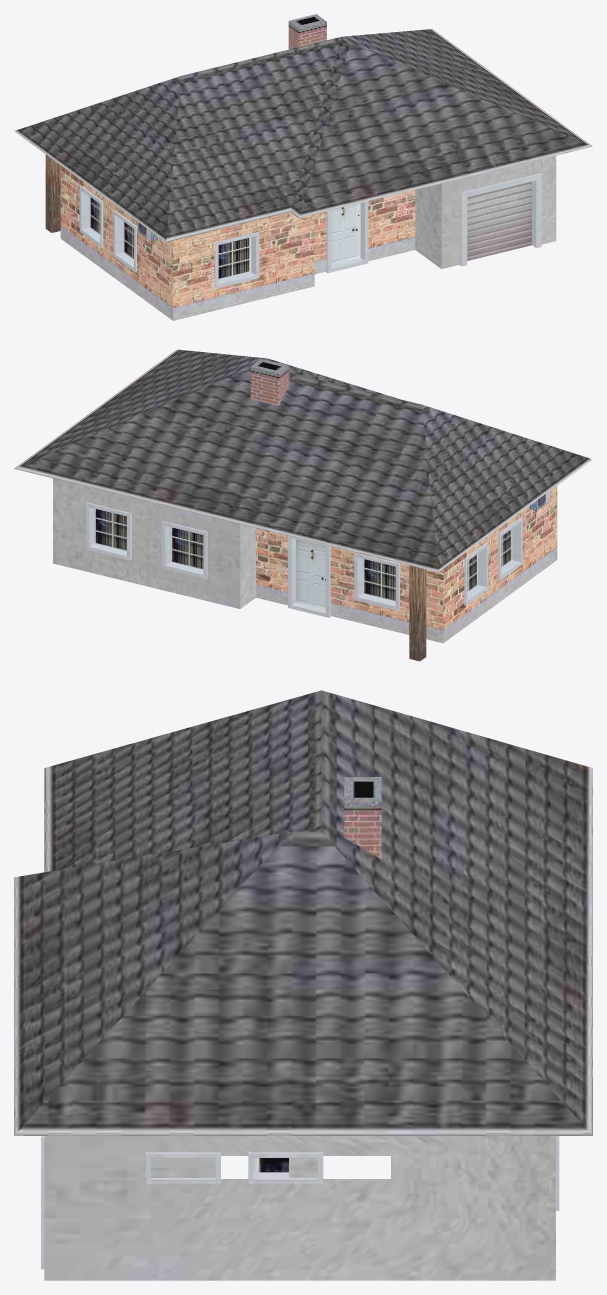
The model's file is house1.glb.
3 renders of one model, top to bottom at view 1: azimuth 30°, elevation 25°; view 2: azimuth 150°, elevation 25°; view 3: azimuth 270°, elevation 25°, orthographic. The views are drawn at different scales.
Parts seen in each view (by area): view 1: roof01, wall01, garage_door, wall02, wall03, wall11, door, wall10, window, window3, column2, window2; view 2: roof01, wall06, wall07, wall08, wall09, wall11, door2, wall10, window5, window6, window4, column2 (+2 smaller); view 3: roof01, wall04, wall05, window_bathroom2, window_bathroom.
Boxes of the visible parts, left/top/right/bottom form: roof01: left=14, top=14, right=592, bottom=242; wall01: left=173, top=212, right=314, bottom=320; garage_door: left=460, top=173, right=541, bottom=266; wall02: left=314, top=183, right=441, bottom=274; wall03: left=441, top=155, right=556, bottom=268; wall11: left=109, top=201, right=172, bottom=320; door: left=326, top=201, right=368, bottom=273; wall10: left=60, top=165, right=110, bottom=274; window: left=215, top=231, right=259, bottom=288; window3: left=79, top=185, right=103, bottom=247; column2: left=45, top=154, right=60, bottom=232; window2: left=113, top=210, right=136, bottom=272; roof01: left=14, top=349, right=592, bottom=572; wall06: left=53, top=478, right=147, bottom=586; wall07: left=146, top=501, right=240, bottom=608; wall08: left=240, top=524, right=346, bottom=619; wall09: left=346, top=550, right=443, bottom=643; wall11: left=492, top=486, right=557, bottom=605; door2: left=288, top=535, right=331, bottom=617; wall10: left=443, top=533, right=493, bottom=642; window5: left=162, top=521, right=207, bottom=579; window6: left=86, top=502, right=131, bottom=560; window4: left=354, top=552, right=399, bottom=610; column2: left=409, top=565, right=426, bottom=661; roof01: left=14, top=690, right=592, bottom=1135; wall04: left=44, top=1136, right=304, bottom=1280; wall05: left=304, top=1136, right=555, bottom=1280; window_bathroom2: left=248, top=1152, right=323, bottom=1183; window_bathroom: left=146, top=1152, right=220, bottom=1183.
Bounding box in the file's own units: 4.11 × 1.87 × 2.73.
2 materials, 2 textured.
